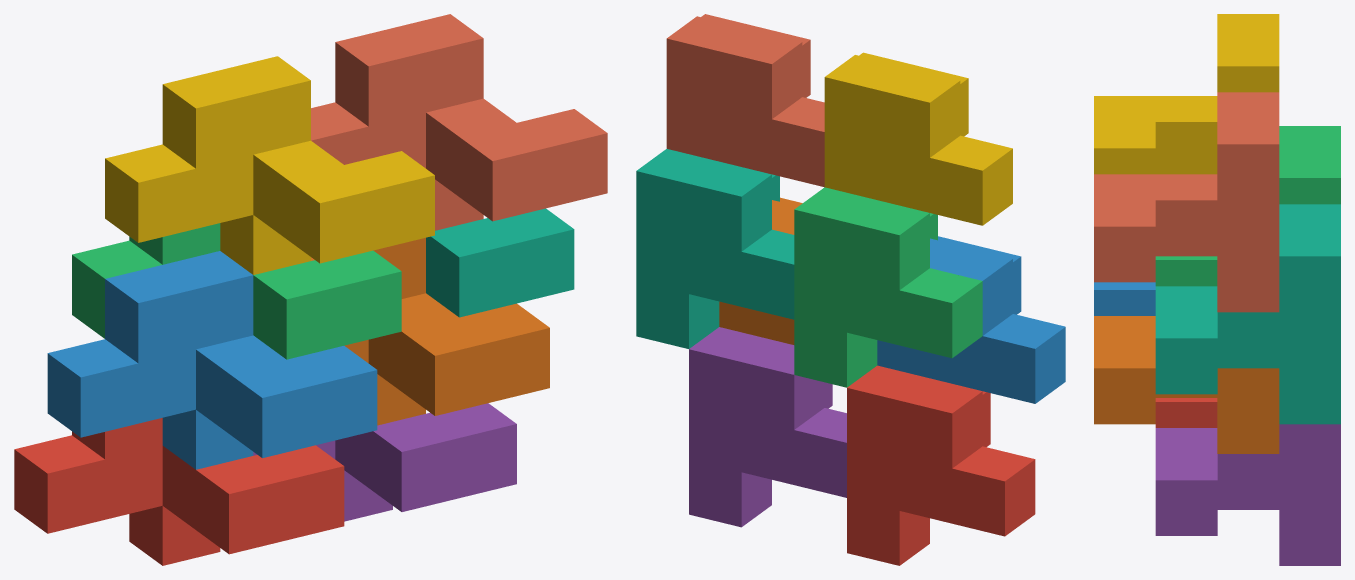
The model's file is tiling.obj.
The picture shows the model from 3 angles, left to right: view 1: azimuth 30°, elevation 25°; view 2: azimuth 150°, elevation 25°; view 3: azimuth 270°, elevation 25°; orthographic projection. The views are drawn at different scales.
Parts seen in each view (by area): view 1: copy_1_domain_2, copy_1_domain_4, copy_1_domain_8, copy_1_domain_1, copy_1_domain_6, copy_1_domain_3, copy_1_domain_5, copy_1_domain_7; view 2: copy_1_domain_1, copy_1_domain_3, copy_1_domain_7, copy_1_domain_5, copy_1_domain_4, copy_1_domain_8, copy_1_domain_2, copy_1_domain_6; view 3: copy_1_domain_8, copy_1_domain_7, copy_1_domain_5, copy_1_domain_4, copy_1_domain_6, copy_1_domain_3, copy_1_domain_2, copy_1_domain_1.
Part boxes in pixels (x1,y1,x2,y2): copy_1_domain_2: (47, 251, 377, 469); copy_1_domain_4: (105, 56, 434, 274); copy_1_domain_8: (311, 14, 607, 230); copy_1_domain_1: (14, 418, 344, 565); copy_1_domain_6: (311, 237, 549, 425); copy_1_domain_3: (72, 223, 401, 359); copy_1_domain_5: (253, 403, 516, 521); copy_1_domain_7: (426, 208, 574, 317); copy_1_domain_1: (847, 365, 1035, 565); copy_1_domain_3: (794, 187, 982, 387); copy_1_domain_7: (636, 149, 794, 348); copy_1_domain_5: (689, 327, 846, 527); copy_1_domain_4: (824, 52, 1012, 225); copy_1_domain_8: (666, 14, 824, 187); copy_1_domain_2: (877, 236, 1065, 403); copy_1_domain_6: (719, 197, 802, 344); copy_1_domain_8: (1094, 92, 1279, 312); copy_1_domain_7: (1155, 204, 1340, 424); copy_1_domain_5: (1155, 424, 1340, 565); copy_1_domain_4: (1094, 14, 1279, 174); copy_1_domain_6: (1094, 316, 1279, 453); copy_1_domain_3: (1155, 126, 1340, 286); copy_1_domain_2: (1094, 282, 1155, 315); copy_1_domain_1: (1155, 398, 1217, 427).
Bounding box in the file's own units: 8 × 8 × 4.
